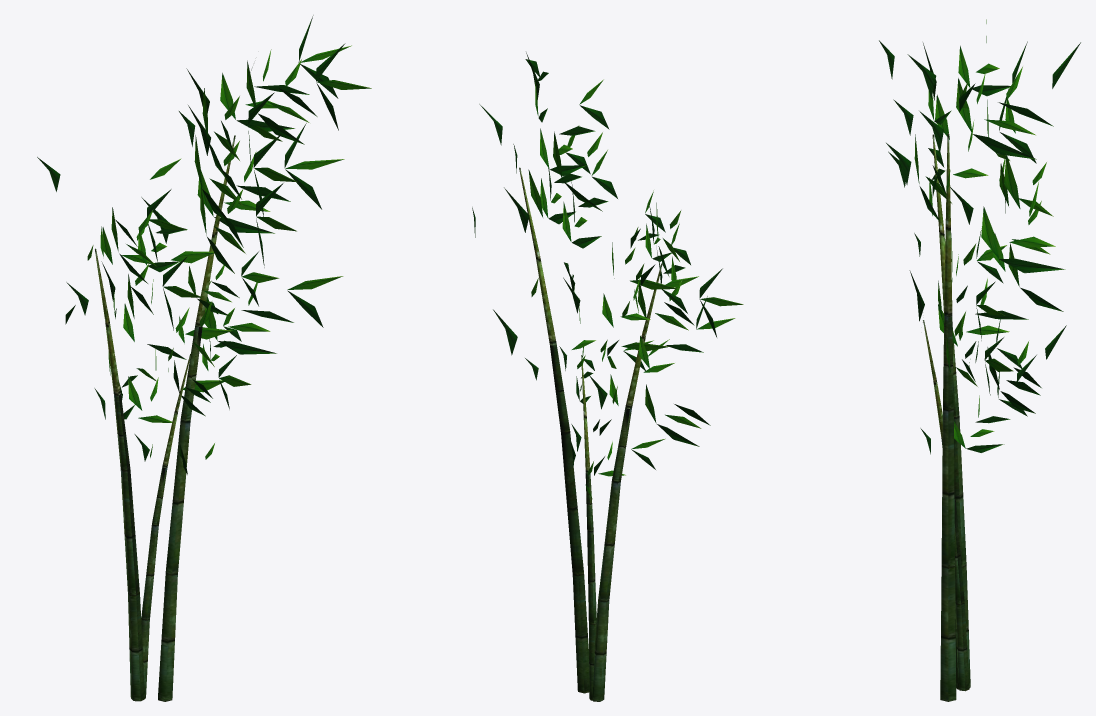
File: cay-tre.glb
The picture shows the model from 3 angles, left to right: view 1: azimuth 30°, elevation 25°; view 2: azimuth 150°, elevation 25°; view 3: azimuth 270°, elevation 25°; orthographic projection. The views are drawn at different scales.
Visible parts, largest first — view 1: CayTre; view 2: CayTre; view 3: CayTre.
Boxes of the visible parts, x1,y1,x2,y2 form: CayTre: (37,15,371,701); CayTre: (472,52,743,701); CayTre: (879,19,1080,701).
Bounding box in the file's own units: 4.49 × 8.01 × 3.08.
Materials: 1 (1 with a texture image).
